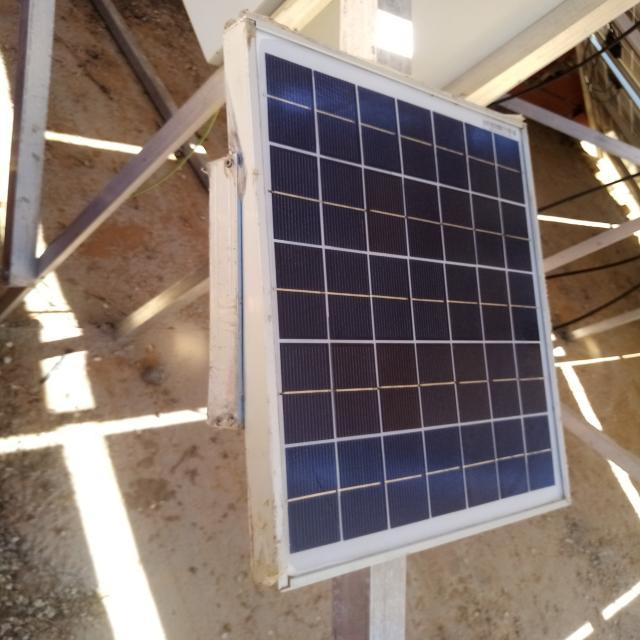no faulty: (250, 20, 569, 586)
